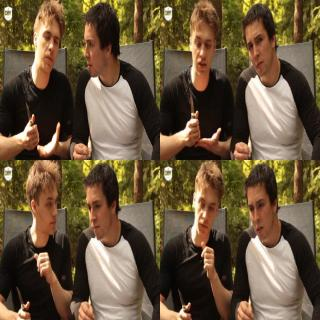knife: (184, 85, 200, 135), (22, 97, 40, 138), (15, 282, 31, 320), (176, 281, 192, 319)
